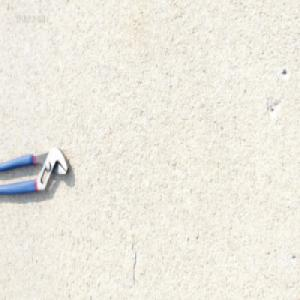Pliers: (0, 143, 69, 196)
